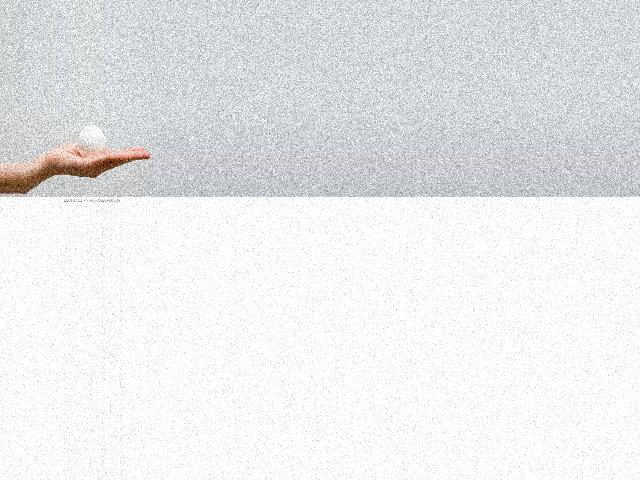egg: (79, 125, 105, 158)
